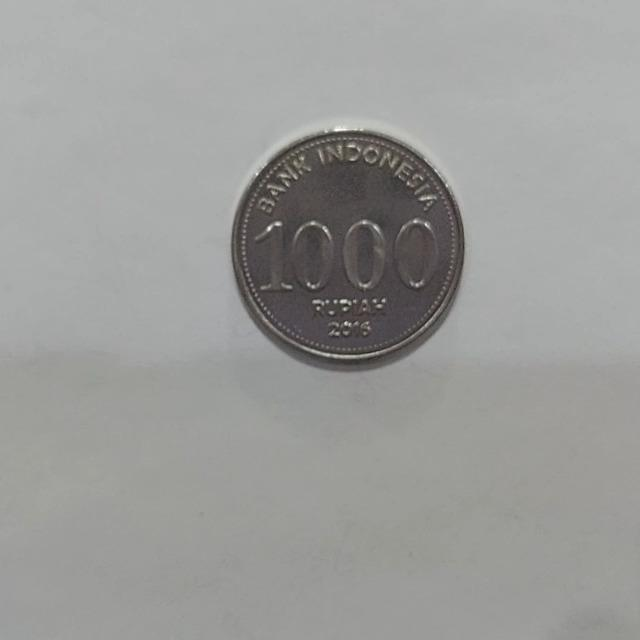Rp100: (228, 122, 466, 370)
